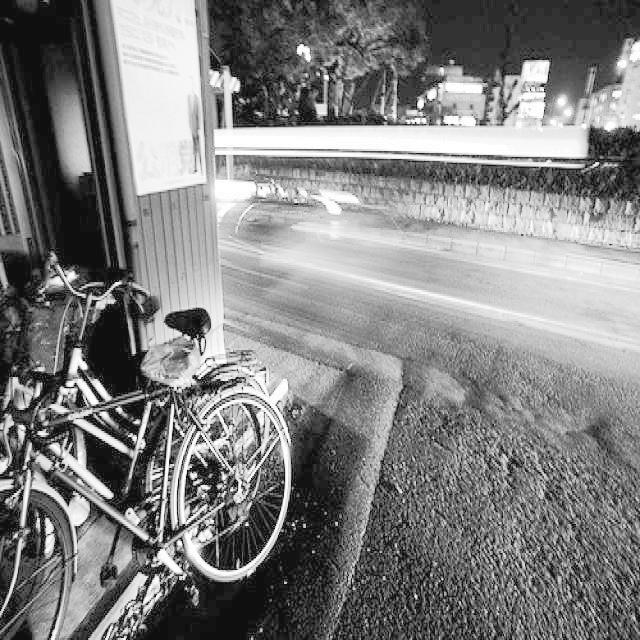Bicycle: (0, 330, 325, 640), (0, 266, 190, 560)
